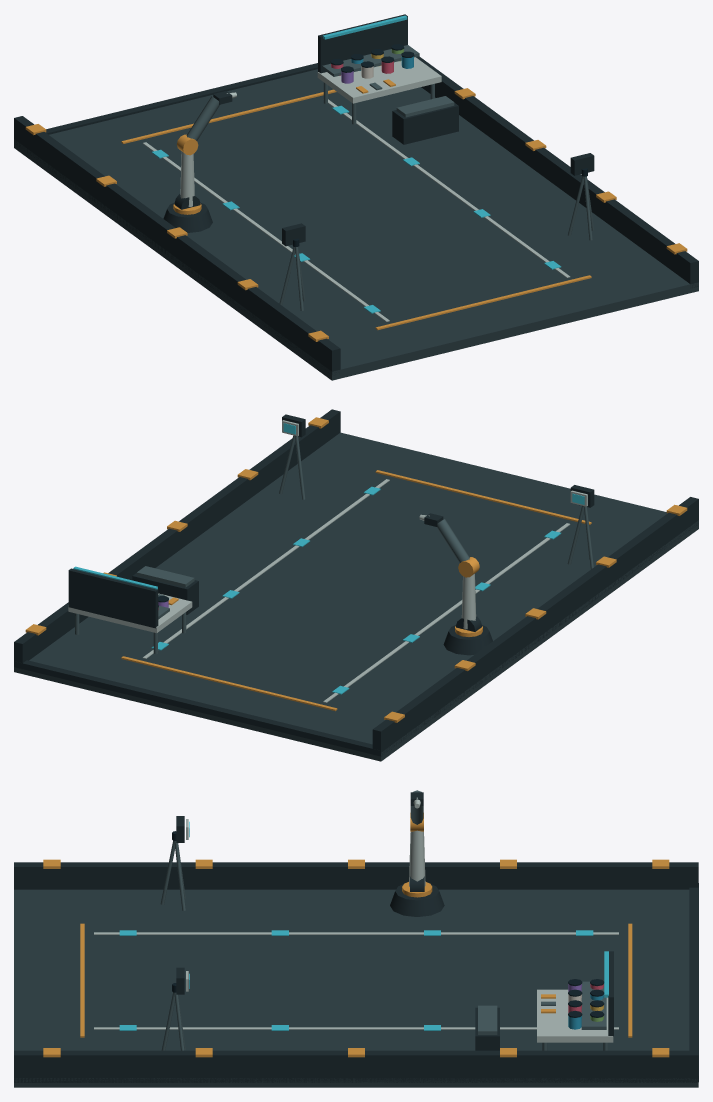
File: mork_garage_d0_lod1.meshopt.glb
3 renders of one model, top to bottom at view 1: azimuth 30°, elevation 25°; view 2: azimuth 150°, elevation 25°; view 3: azimuth 270°, elevation 25°, orthographic. The views are drawn at different scales.
Parts seen in each view (by area): view 1: GARAGE_STATIC_BODY, ARM_FORE_LINK, ARM_UPPER_LINK; view 2: GARAGE_STATIC_BODY, ARM_FORE_LINK, ARM_UPPER_LINK; view 3: GARAGE_STATIC_BODY, ARM_UPPER_LINK.
Part boxes in pixels (box(x1,y1,x2,y2)): GARAGE_STATIC_BODY: box(14, 14, 698, 380); ARM_FORE_LINK: box(176, 96, 219, 155); ARM_UPPER_LINK: box(174, 151, 200, 209); GARAGE_STATIC_BODY: box(14, 409, 698, 761); ARM_FORE_LINK: box(436, 518, 479, 577); ARM_UPPER_LINK: box(456, 573, 481, 631); GARAGE_STATIC_BODY: box(14, 816, 698, 1087); ARM_UPPER_LINK: box(409, 830, 425, 891).
Size of what is drawn, in the model's own units: 12.14 by 4.07 by 18.01.
